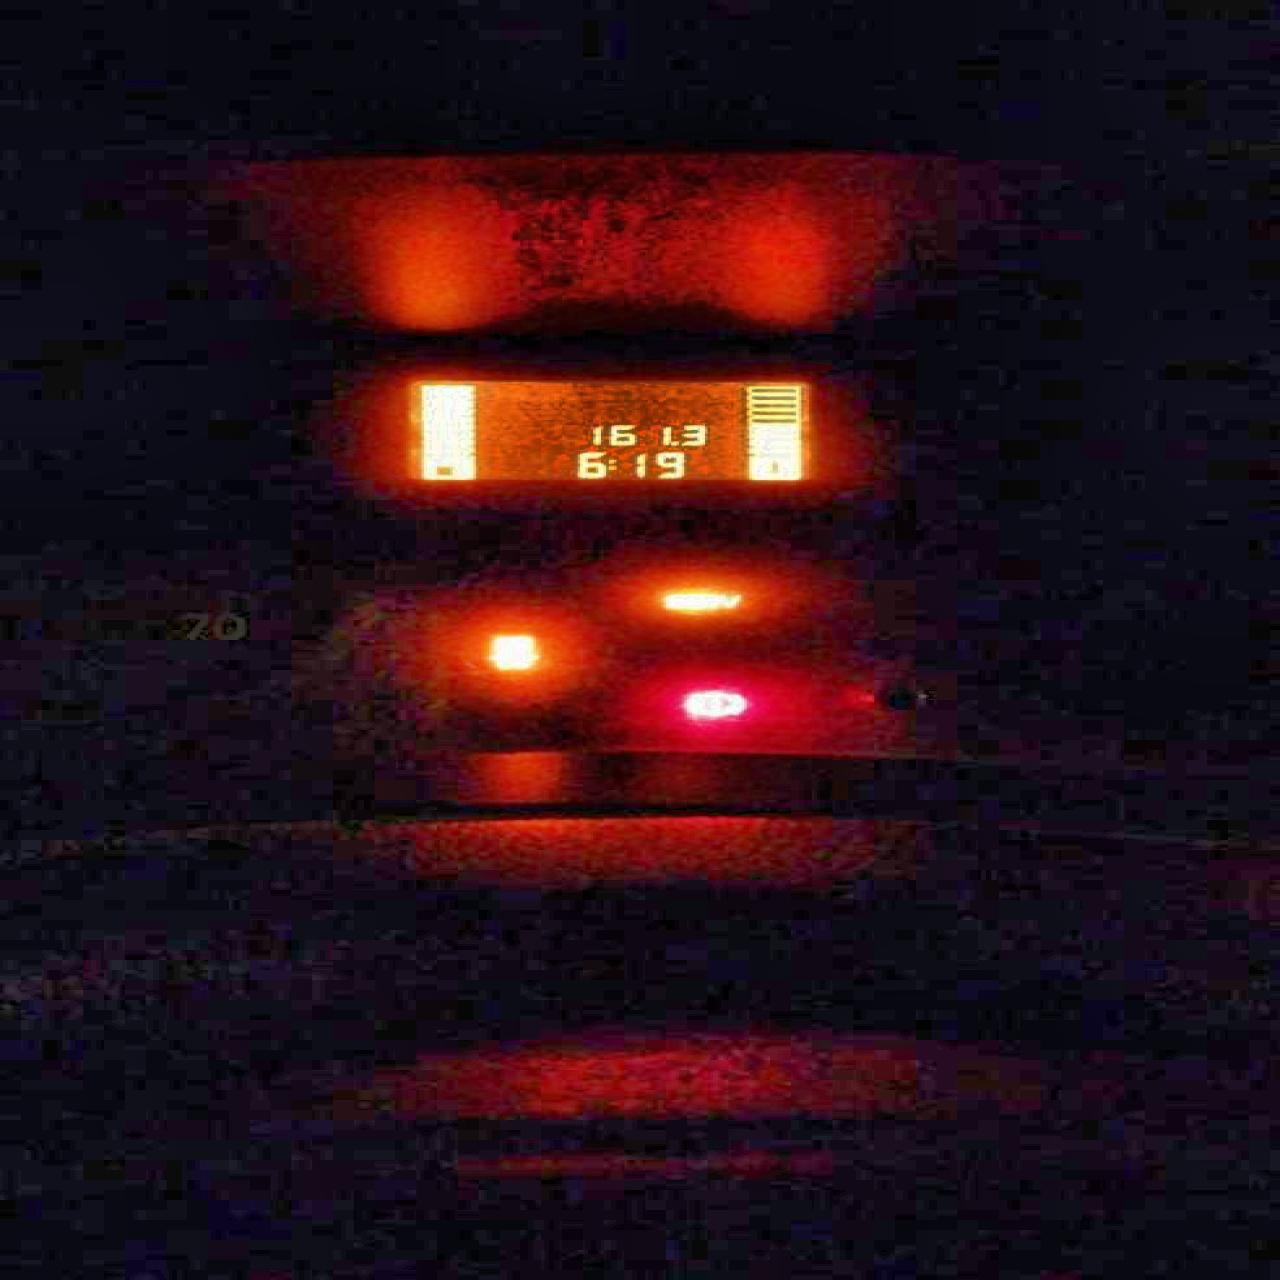-: (668, 438, 676, 447)
1: (629, 451, 647, 477), (586, 424, 606, 445), (653, 424, 670, 447)
3: (679, 422, 704, 447)
6: (570, 449, 604, 479), (606, 423, 635, 445)
9: (651, 450, 685, 478)
X: (606, 456, 617, 471)
odometer: (393, 375, 817, 484)
